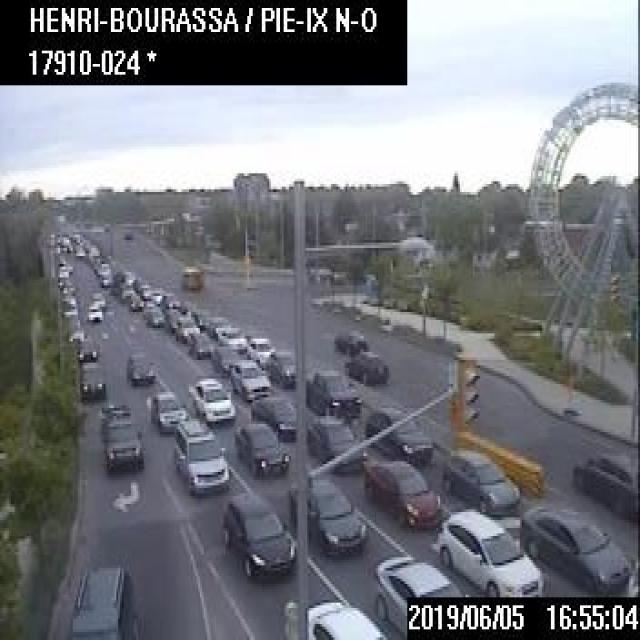vehicle: (519, 503, 629, 593), (436, 509, 543, 594), (374, 553, 471, 634), (440, 448, 518, 514), (363, 459, 439, 526), (573, 443, 638, 520), (306, 472, 366, 555), (67, 563, 133, 637), (173, 418, 228, 496), (282, 598, 386, 638), (364, 406, 432, 462), (305, 413, 366, 470), (232, 420, 289, 475), (99, 402, 142, 469), (304, 368, 360, 415), (250, 394, 296, 440), (190, 376, 234, 422), (228, 357, 270, 399), (150, 388, 187, 432), (342, 350, 388, 384), (263, 348, 294, 386), (78, 360, 104, 397), (127, 351, 155, 383), (210, 344, 238, 372), (244, 336, 274, 362), (216, 325, 246, 351), (333, 329, 366, 352), (187, 330, 212, 357), (175, 315, 198, 338), (76, 337, 98, 360), (181, 264, 201, 287), (206, 315, 230, 333), (66, 321, 86, 341), (163, 308, 180, 331), (192, 307, 210, 327), (144, 305, 163, 323), (85, 303, 101, 321), (160, 292, 178, 307), (90, 289, 105, 306), (179, 298, 194, 314), (148, 287, 163, 302), (62, 303, 77, 316), (129, 294, 142, 308), (74, 244, 84, 256), (122, 229, 130, 236)
